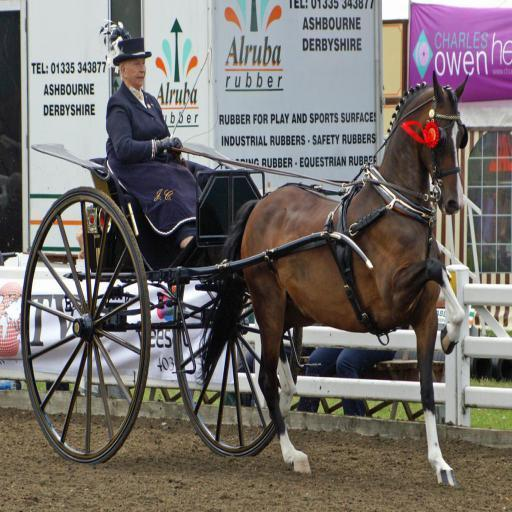horse: (202, 72, 470, 486)
